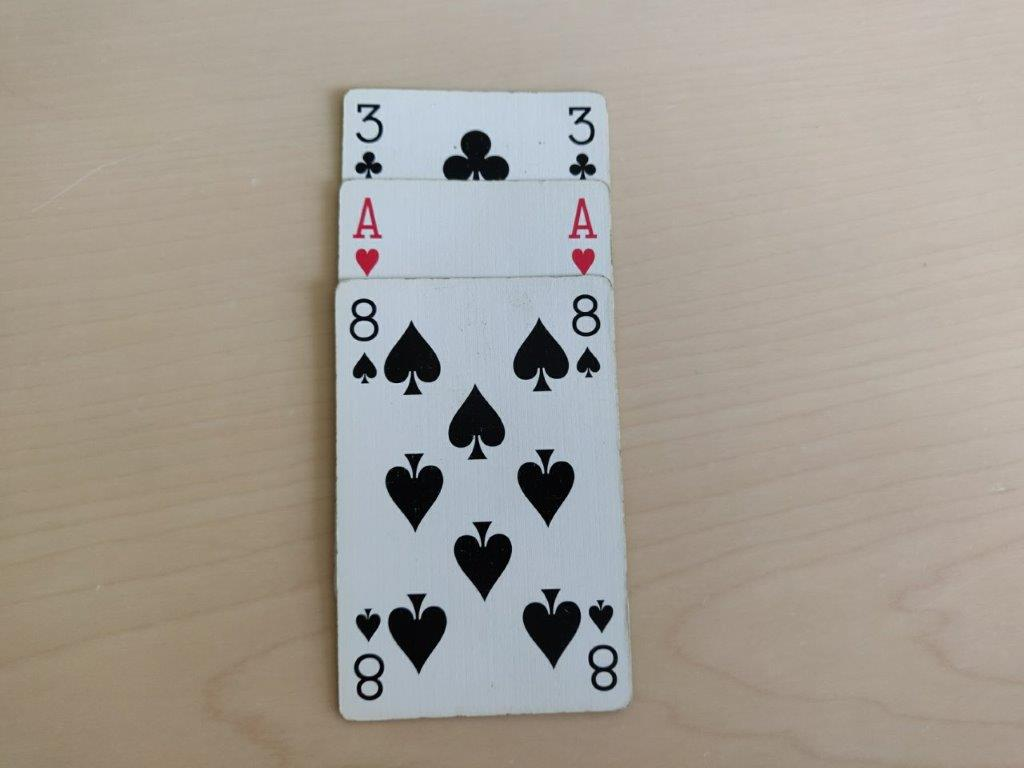3C: (562, 99, 600, 185), (349, 99, 385, 182)
8S: (568, 287, 609, 380), (343, 294, 382, 388)
AH: (565, 192, 604, 280), (346, 192, 384, 280)
